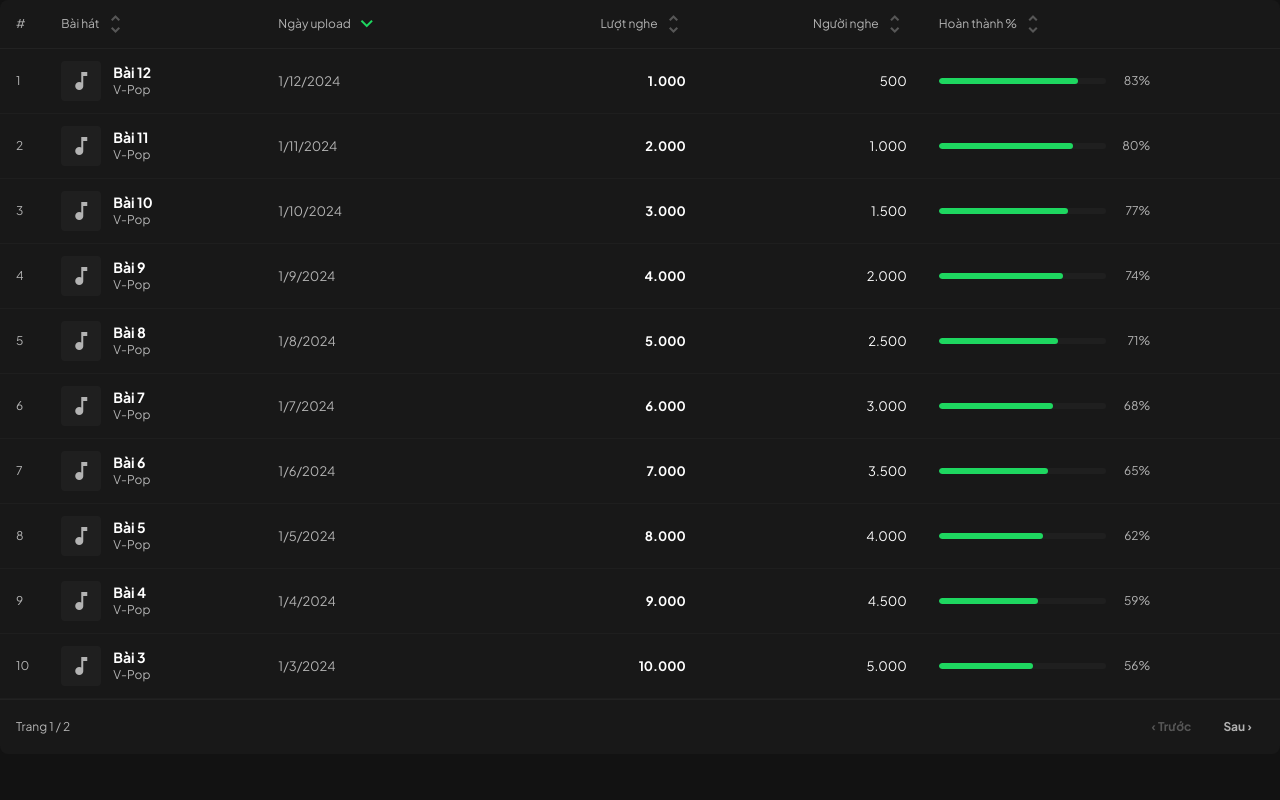
Test: CreatorSongTable — pagination › clicking "Trang trước" returns to first page
Click the button with aria-label "Trang sau". click: [1238, 727]
box: [1211,712,1264,742]
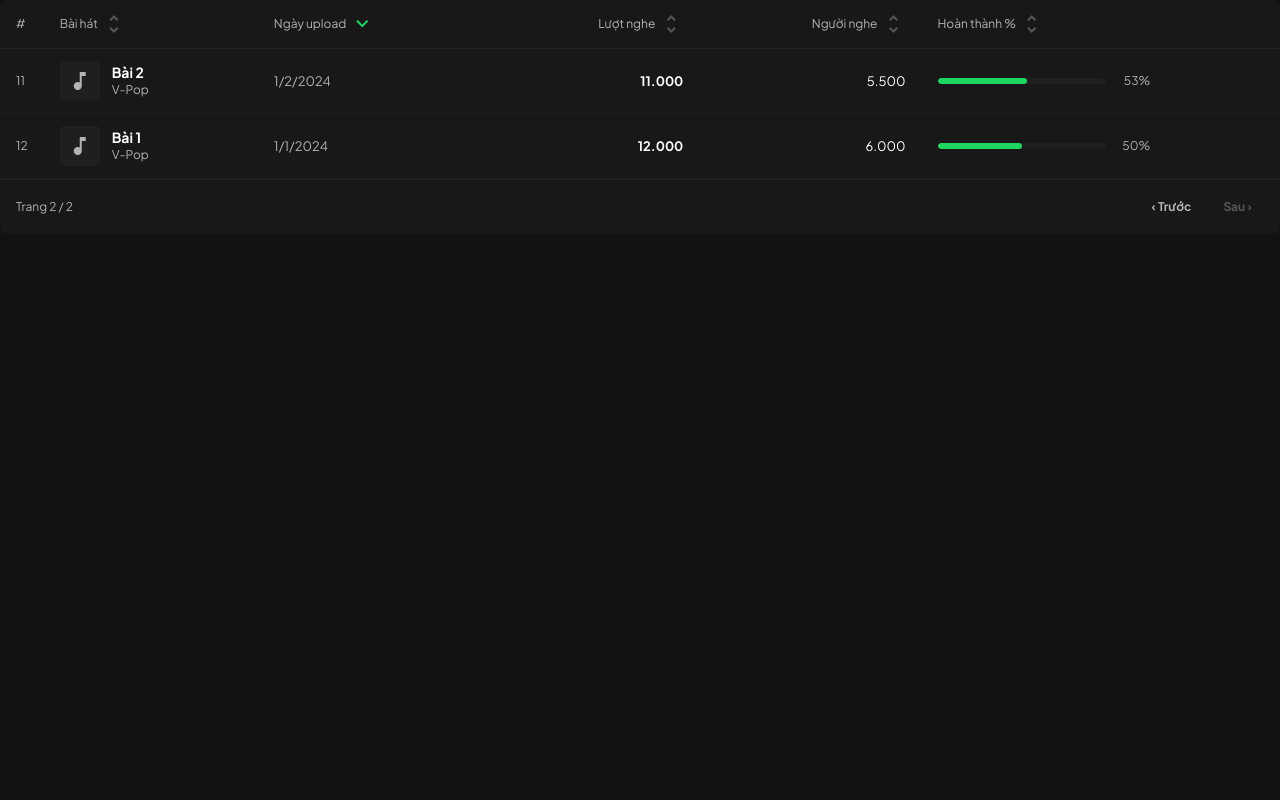
Click the button with aria-label "Trang trước". click: [1171, 207]
box: [1139,192,1203,222]
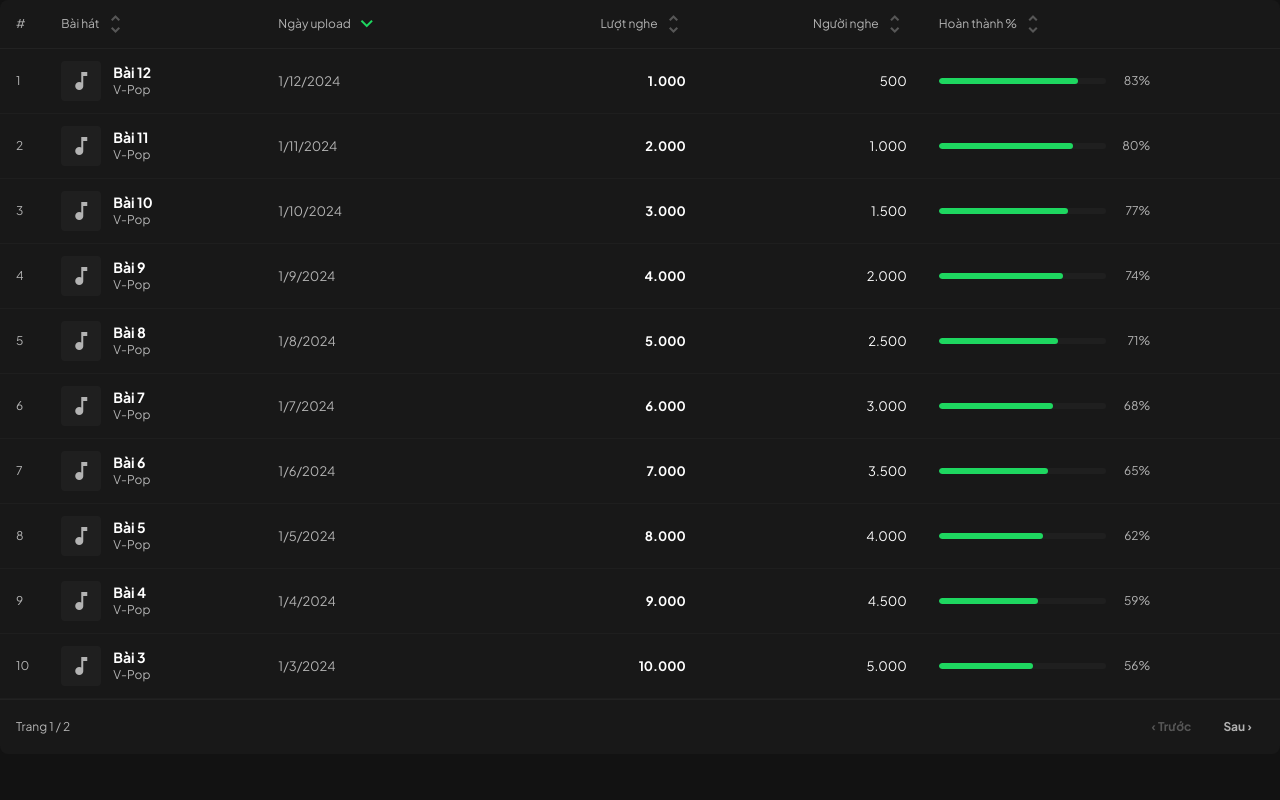
Expected: the text "Trang 1 / 2" is shown, [16,718,70,736]
